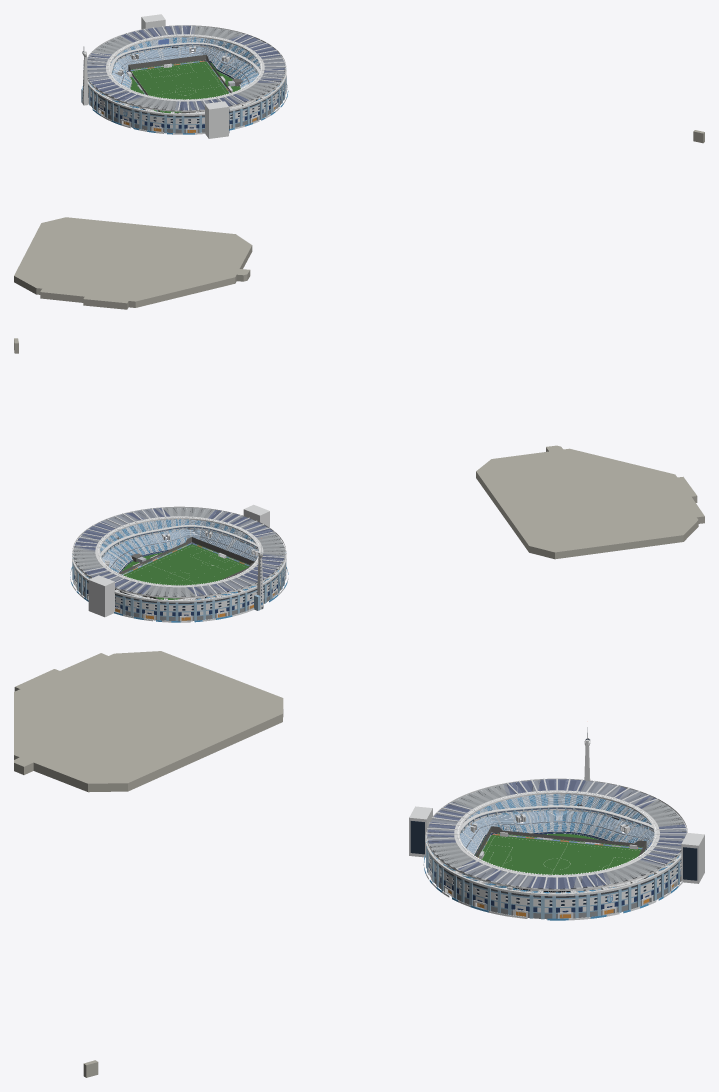
The model's file is RACING_3D.glb.
The picture shows the model from 3 angles, top to bottom: view 1: azimuth 30°, elevation 25°; view 2: azimuth 150°, elevation 25°; view 3: azimuth 270°, elevation 25°; orthographic projection. The views are drawn at different scales.
Visible parts, largest first — view 1: Stadium_Wall.001, Stadium_Continuous_Roof, Stadium_Rear_Structure, Stadium_Continuous_Terraces, Stadium_Roof_Ribs, Stadium_Turf_Stripes, Stadium_Turf_Alternate, Stadium_Seats_Primary, Stadium_Roof_Termination, Stadium_Palcos, Stadium_Stair_Core_W, Stadium_Roof_Visor (+1 smaller); view 2: Stadium_Wall.001, Stadium_Continuous_Roof, Stadium_Rear_Structure, Stadium_Continuous_Terraces, Stadium_Roof_Ribs, Stadium_Seats_Primary, Stadium_Turf_Alternate, Stadium_Turf_Stripes, Stadium_Stair_Core_E, Stadium_Roof_Termination, Stadium_Palcos, Stadium_Roof_Visor (+2 smaller); view 3: Stadium_Wall.001, Stadium_Continuous_Roof, Stadium_Rear_Structure, Stadium_Continuous_Terraces, Stadium_Roof_Ribs, Stadium_Seats_Primary, Stadium_Turf_Alternate, Stadium_Turf_Stripes, Stadium_Roof_Termination, Stadium_Palcos, Stadium_Roof_Visor, Stadium_Pitch_Fence (+2 smaller).
Part boxes in pixels (x1=…): Stadium_Wall.001: x1=14, y1=217, x2=252, y2=309; Stadium_Continuous_Roof: x1=87, y1=25, x2=285, y2=110; Stadium_Rear_Structure: x1=87, y1=37, x2=286, y2=133; Stadium_Continuous_Terraces: x1=88, y1=37, x2=284, y2=107; Stadium_Roof_Ribs: x1=87, y1=25, x2=286, y2=110; Stadium_Turf_Stripes: x1=130, y1=62, x2=240, y2=112; Stadium_Turf_Alternate: x1=130, y1=61, x2=240, y2=113; Stadium_Seats_Primary: x1=89, y1=37, x2=284, y2=110; Stadium_Roof_Termination: x1=87, y1=25, x2=286, y2=132; Stadium_Palcos: x1=110, y1=42, x2=259, y2=113; Stadium_Stair_Core_W: x1=205, y1=101, x2=228, y2=138; Stadium_Roof_Visor: x1=87, y1=26, x2=285, y2=110; Stadium_Wall.001: x1=476, y1=445, x2=704, y2=559; Stadium_Continuous_Roof: x1=73, y1=507, x2=285, y2=596; Stadium_Rear_Structure: x1=72, y1=519, x2=286, y2=621; Stadium_Continuous_Terraces: x1=74, y1=519, x2=282, y2=597; Stadium_Roof_Ribs: x1=73, y1=507, x2=284, y2=596; Stadium_Seats_Primary: x1=73, y1=519, x2=284, y2=599; Stadium_Turf_Alternate: x1=124, y1=544, x2=248, y2=599; Stadium_Turf_Stripes: x1=122, y1=544, x2=248, y2=599; Stadium_Stair_Core_E: x1=88, y1=575, x2=114, y2=617; Stadium_Roof_Termination: x1=72, y1=506, x2=286, y2=619; Stadium_Palcos: x1=100, y1=525, x2=258, y2=600; Stadium_Roof_Visor: x1=73, y1=508, x2=285, y2=596; Stadium_Wall.001: x1=14, y1=651, x2=283, y2=792; Stadium_Continuous_Roof: x1=427, y1=779, x2=686, y2=888; Stadium_Rear_Structure: x1=425, y1=794, x2=687, y2=919; Stadium_Continuous_Terraces: x1=428, y1=794, x2=681, y2=893; Stadium_Roof_Ribs: x1=426, y1=778, x2=687, y2=889; Stadium_Seats_Primary: x1=427, y1=794, x2=680, y2=893; Stadium_Turf_Alternate: x1=481, y1=833, x2=645, y2=874; Stadium_Turf_Stripes: x1=483, y1=833, x2=641, y2=874; Stadium_Roof_Termination: x1=426, y1=778, x2=687, y2=917; Stadium_Palcos: x1=459, y1=805, x2=654, y2=891; Stadium_Roof_Visor: x1=427, y1=781, x2=686, y2=889; Stadium_Pitch_Fence: x1=475, y1=826, x2=646, y2=857.
Bounding box in the file's own units: 686 × 65.9 × 479.
